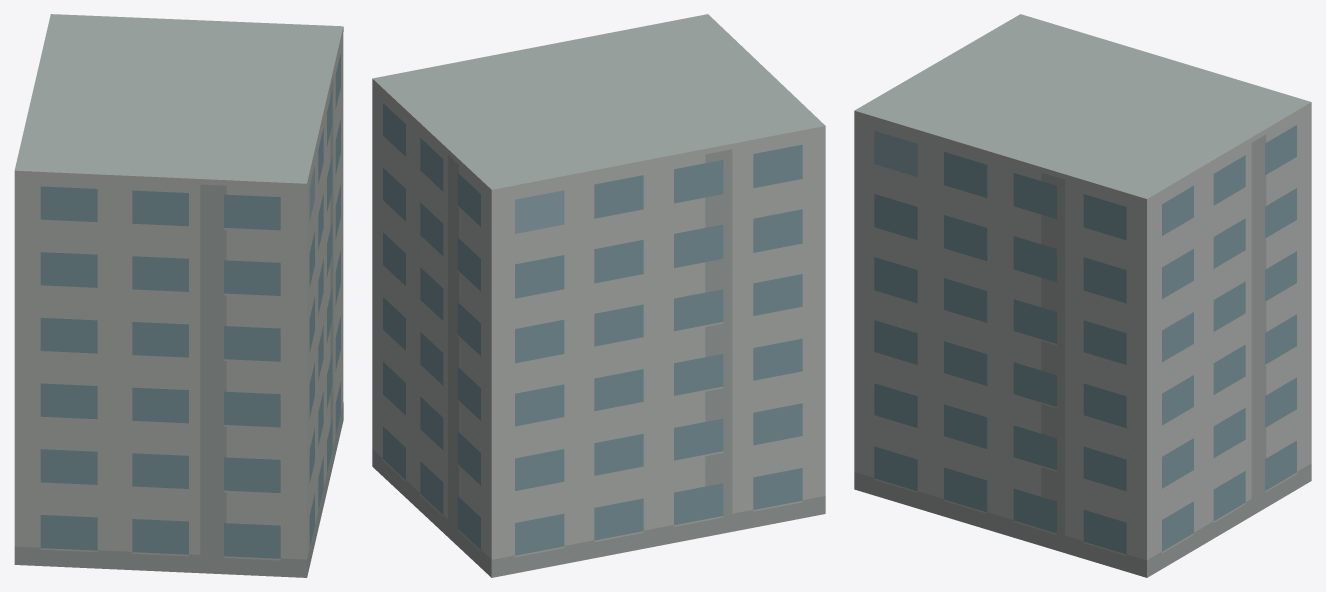
File: survey-upis-32865981.glb
3 views of the same model, side by side, from view 1: azimuth 30°, elevation 25°; view 2: azimuth 150°, elevation 25°; view 3: azimuth 270°, elevation 25° (orthographic). The views are drawn at different scales.
Visible parts, largest first — view 1: survey-upis-32865981.tmp; view 2: survey-upis-32865981.tmp; view 3: survey-upis-32865981.tmp.
Part boxes in pixels (x1,y1,x2,y2): survey-upis-32865981.tmp: (14, 14, 343, 577); survey-upis-32865981.tmp: (372, 14, 825, 577); survey-upis-32865981.tmp: (854, 14, 1311, 577).
Size of the model in its own units: 18.03 by 17.2 by 18.83.
